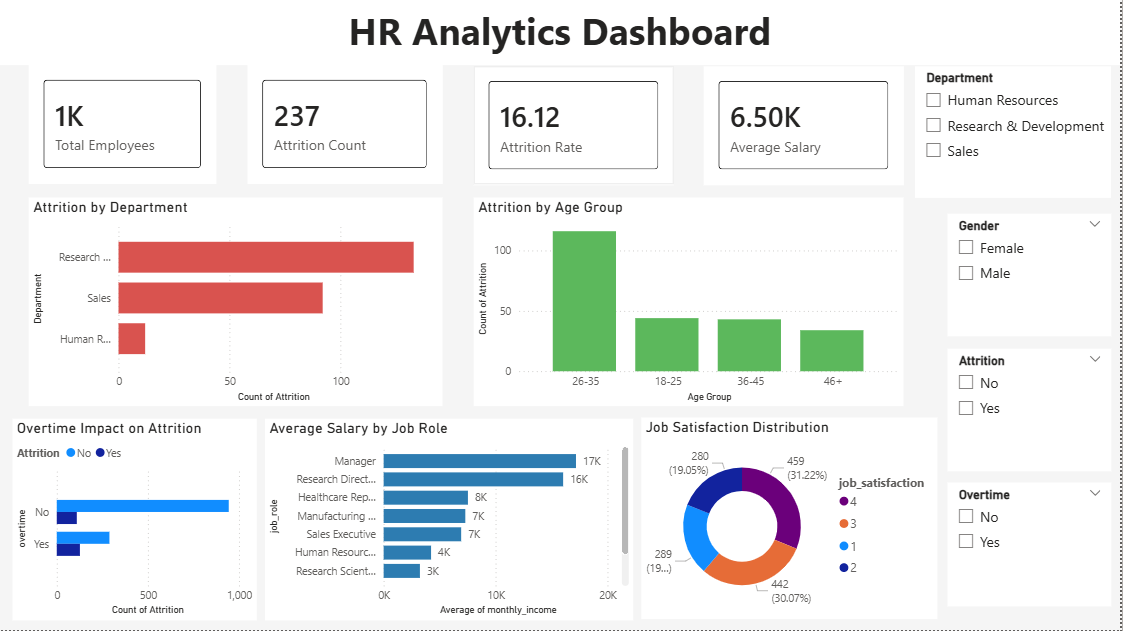

This screenshot's page, from the dashboard's own definition file:
{"tool":"powerbi","page":{"name":"Page 1","canvas":[1280,720],"ordinal":0},"visuals":[{"type":"cardVisual","fields":{"Data":["employee_data.Total Employees"]},"box":[32.9,74.3,214.3,135.7],"z":0},{"type":"cardVisual","fields":{"Data":["employee_data.Attrition Count"]},"box":[282.9,74.3,222.9,135.7],"z":1000},{"type":"cardVisual","fields":{"Data":["employee_data.Attrition Rate"]},"box":[541.4,75.7,228.6,135.7],"z":2000},{"type":"cardVisual","fields":{"Data":["employee_data.Average Salary"]},"box":[804.3,75.7,228.6,135.7],"z":3000},{"type":"clusteredBarChart","title":"Attrition by Department","fields":{"Category":["employee_data.Department"],"Y":["CountNonNull(employee_data.Attrition)"]},"box":[32.9,225.7,472.9,238.6],"z":4000},{"type":"clusteredColumnChart","title":"Attrition by Age Group","fields":{"Category":["employee_data.Age Group"],"Y":["CountNonNull(employee_data.Attrition)"]},"box":[541.4,225.7,491.4,238.6],"z":5000},{"type":"barChart","title":"Average Salary by Job Role","fields":{"Category":["employee_data.job_role"],"Y":["Avg(employee_data.monthly_income)"]},"box":[303,478,421,230],"z":6000},{"type":"clusteredBarChart","title":"Overtime Impact on Attrition","fields":{"Category":["employee_data.overtime"],"Y":["CountNonNull(employee_data.Attrition)"],"Series":["employee_data.Attrition"]},"box":[14,478,279,230],"z":7000},{"type":"slicer","fields":{"Values":["employee_data.Department"]},"box":[1045.7,75.7,224.3,150],"z":8000},{"type":"slicer","fields":{"Values":["employee_data.Gender"]},"box":[1082.9,244.3,187.1,140],"z":9000},{"type":"slicer","fields":{"Values":["employee_data.Attrition"]},"box":[1082.5,398.8,187.5,140],"z":10000},{"type":"slicer","fields":{"Values":["employee_data.overtime"]},"box":[1082.5,551.2,187.5,141.2],"z":11000},{"type":"textbox","box":[0,0,1280,74.3],"z":12000},{"type":"donutChart","title":"Job Satisfaction Distribution","fields":{"Category":["employee_data.job_satisfaction"],"Y":["CountNonNull(employee_data.age)"]},"box":[732.5,477.5,338.8,230],"z":13000}]}

Visuals, with their boxes in screenshot pixels (x1, y1, x2, y2), scaled from the page's 1280x720 canvas onto the 1123x631 screenshot:
cardVisual - employee_data.Total Employees: [29,65,217,184]
cardVisual - employee_data.Attrition Count: [248,65,444,184]
cardVisual - employee_data.Attrition Rate: [475,66,676,185]
cardVisual - employee_data.Average Salary: [706,66,906,185]
"Attrition by Department" clusteredBarChart: [29,198,444,407]
"Attrition by Age Group" clusteredColumnChart: [475,198,906,407]
"Average Salary by Job Role" barChart: [266,419,635,620]
"Overtime Impact on Attrition" clusteredBarChart: [12,419,257,620]
slicer - employee_data.Department: [917,66,1114,198]
slicer - employee_data.Gender: [950,214,1114,337]
slicer - employee_data.Attrition: [950,350,1114,472]
slicer - employee_data.overtime: [950,483,1114,607]
textbox: [0,0,1122,65]
"Job Satisfaction Distribution" donutChart: [643,418,940,620]
